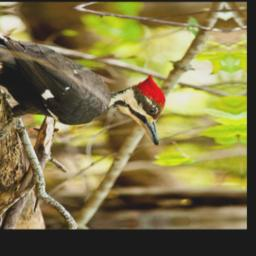Woodpecker: (0, 25, 169, 154)
